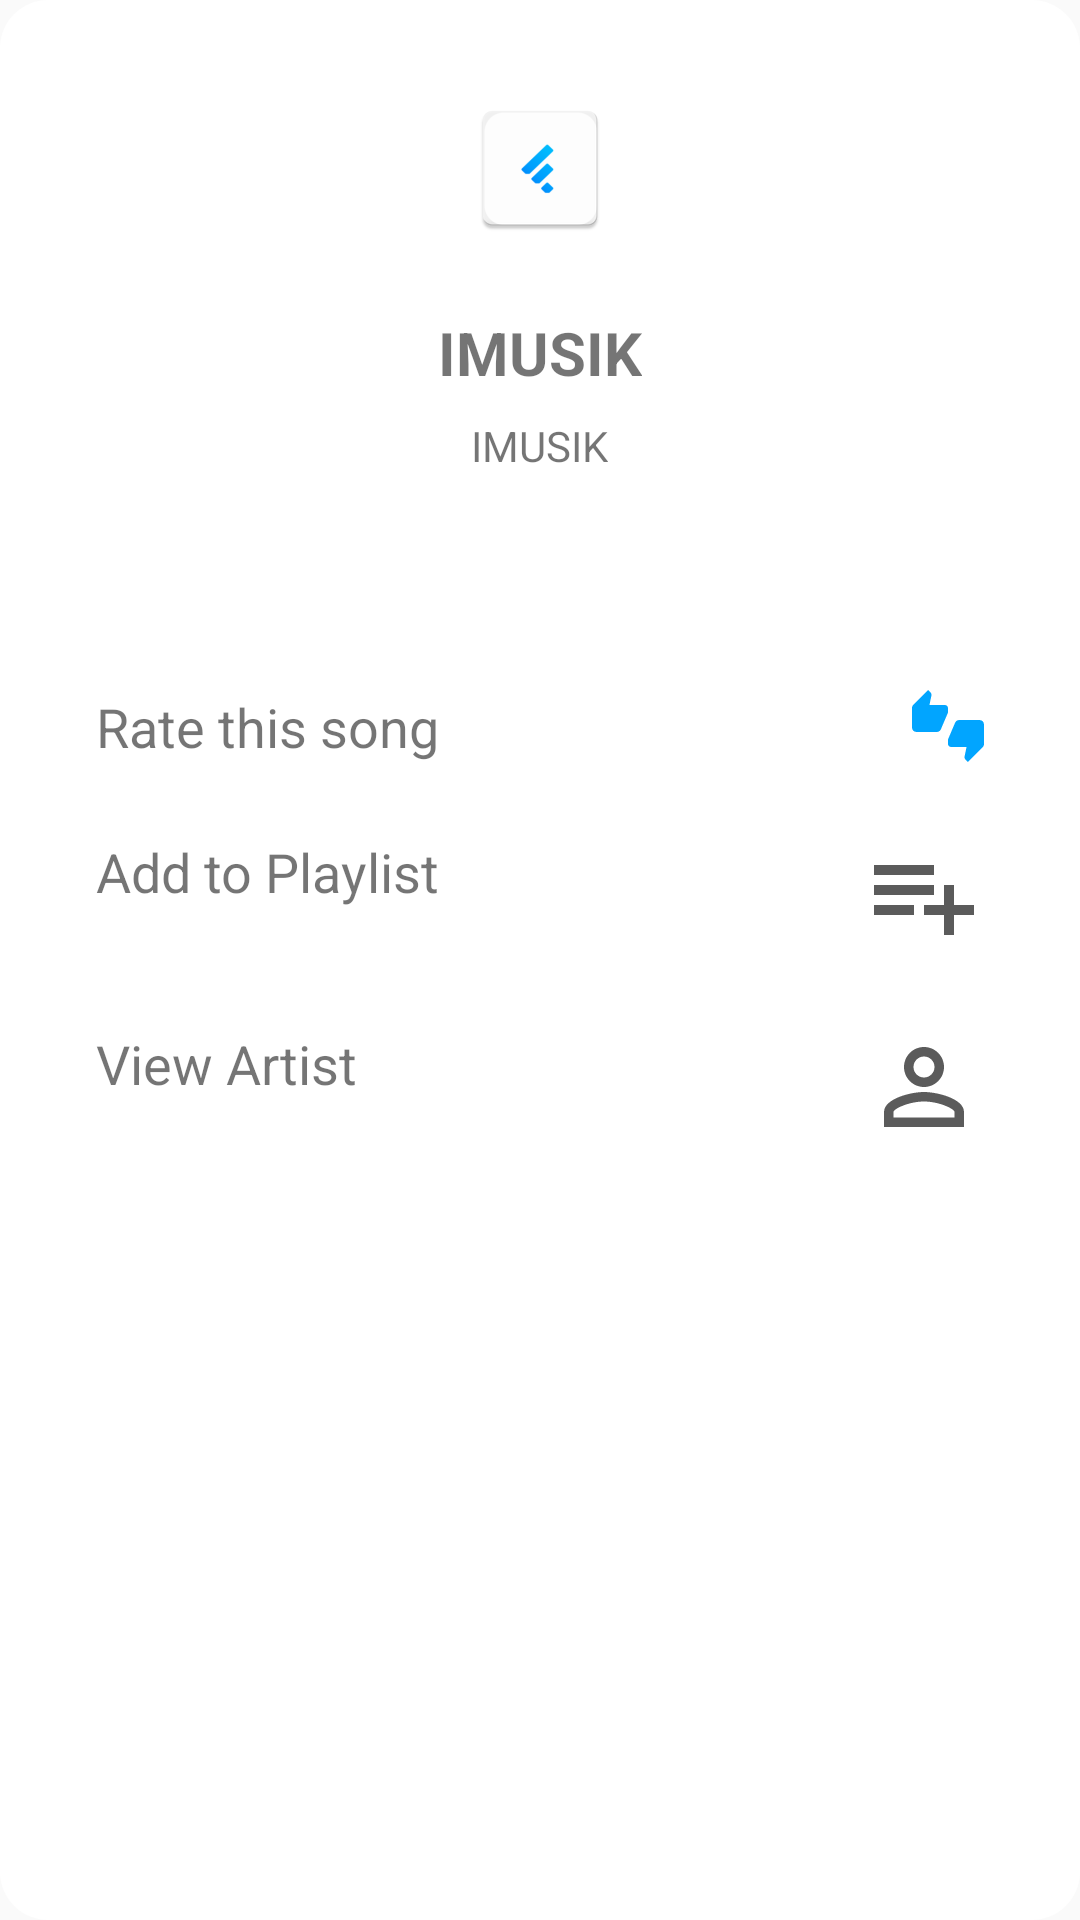

Where icons sit on this 1080w x 1920h app screen, as bbox=(x1, y1, x2, y2):
person: bbox=(884, 1047, 964, 1127)
